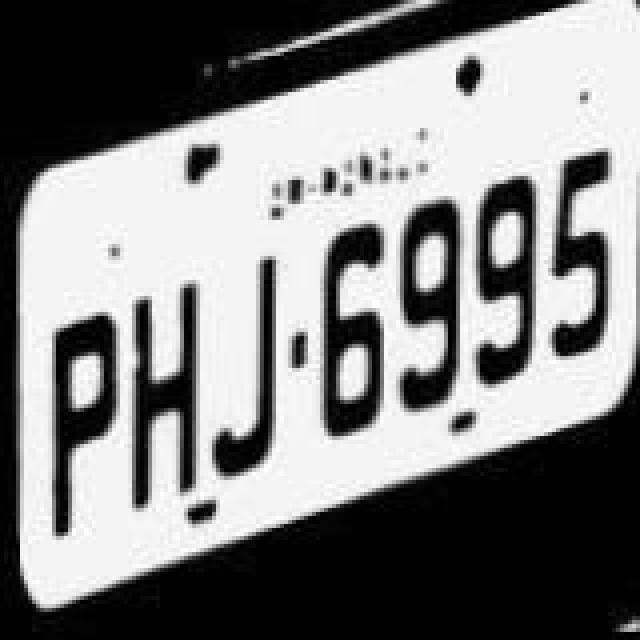5: (542, 154, 614, 370)
6: (318, 228, 390, 436)
9: (464, 174, 540, 390), (390, 198, 462, 414)
H: (126, 288, 202, 504)
J: (212, 254, 288, 474)
P: (44, 308, 124, 532)
